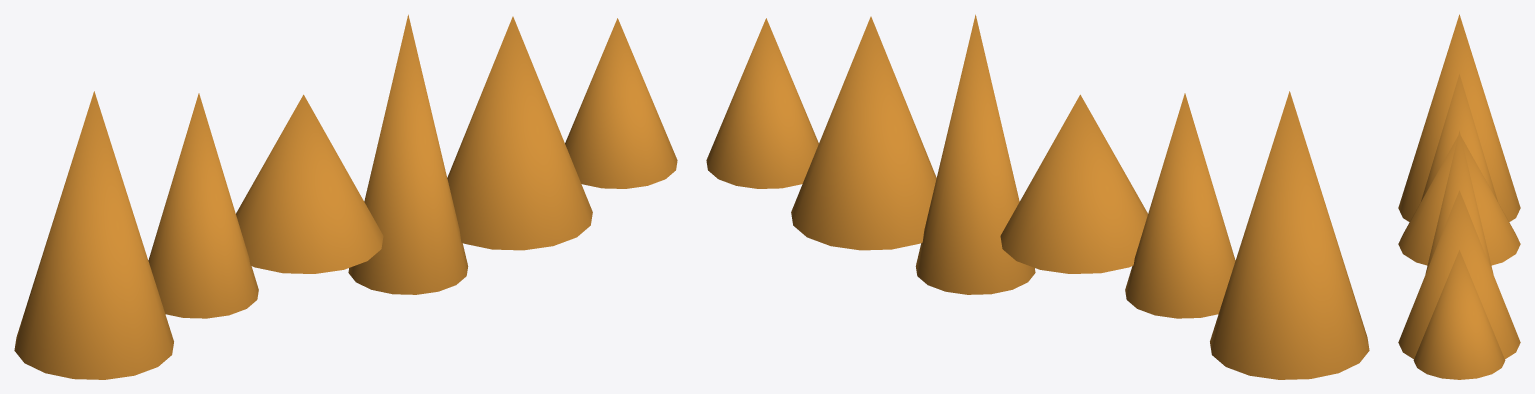
Rendered from lo_lua.glb.
3 views of the same model, side by side, from view 1: azimuth 30°, elevation 25°; view 2: azimuth 150°, elevation 25°; view 3: azimuth 270°, elevation 25° (orthographic). The views are drawn at different scales.
Visible parts, largest first — view 1: lo_lua; view 2: lo_lua; view 3: lo_lua.
Part boxes in pixels (x1,y1,x2,y2): lo_lua: (14, 14, 677, 379); lo_lua: (706, 14, 1369, 379); lo_lua: (1398, 14, 1520, 379).
Size of the model in its own units: 0.37 by 0.14 by 0.08.
